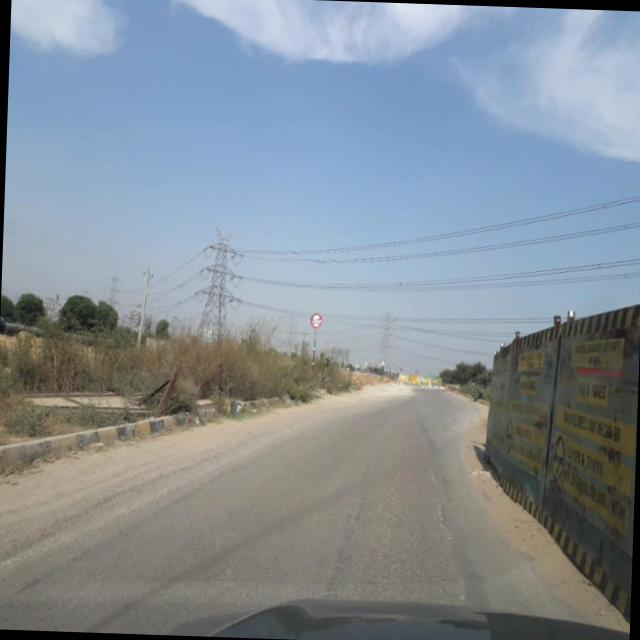crack: (333, 462, 462, 602)
pothole: (418, 440, 459, 547)
